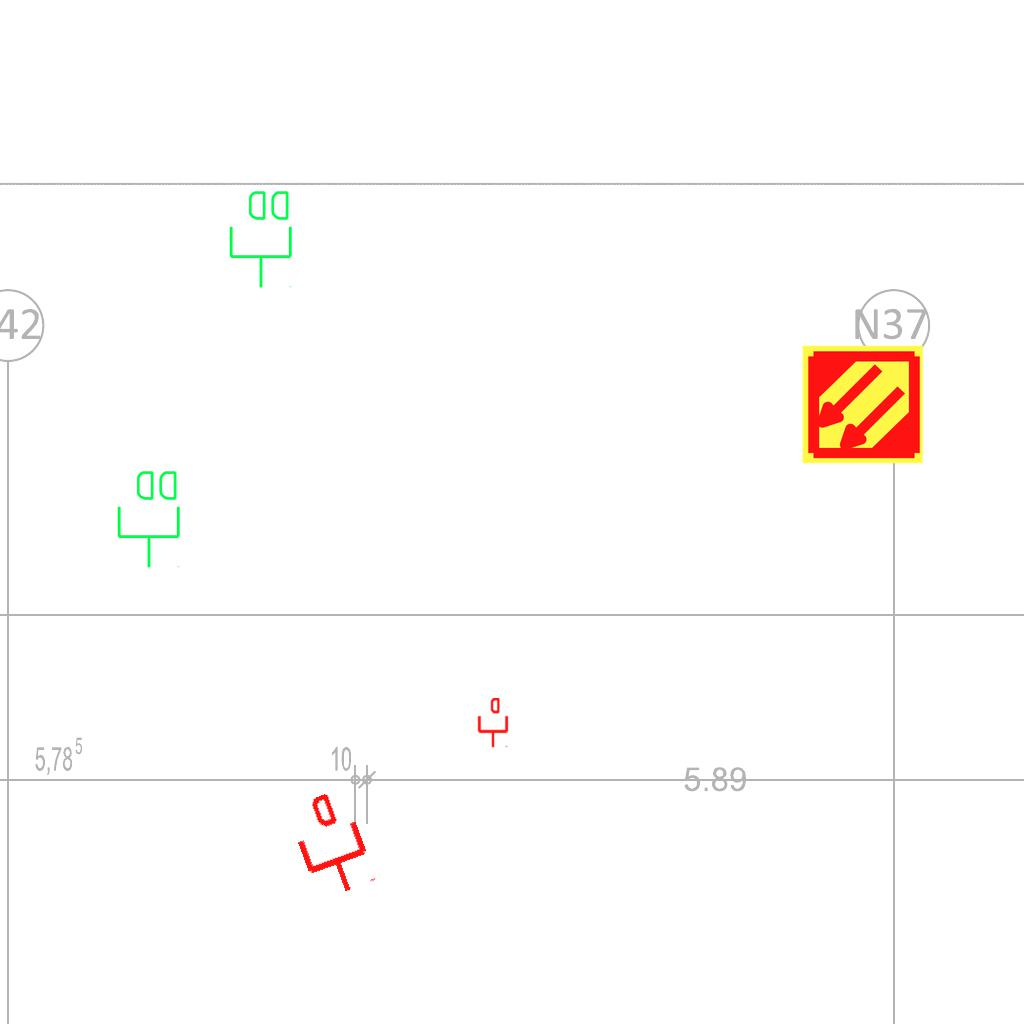ASR_Ansaugrauchmelder: (800, 342, 925, 467)
Datenanschluss_einfach: (281, 786, 382, 904), (476, 698, 510, 748)
Datenanschluss_zweifach: (115, 467, 184, 570), (227, 187, 296, 290)
